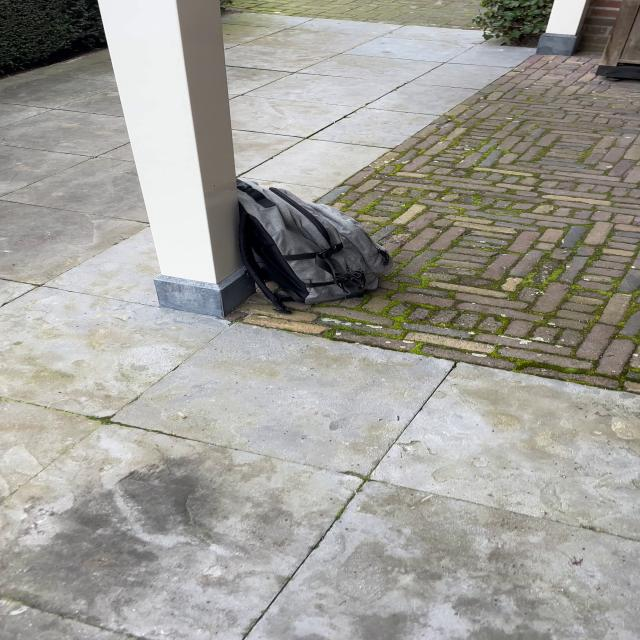backpack: (216, 177, 398, 317)
